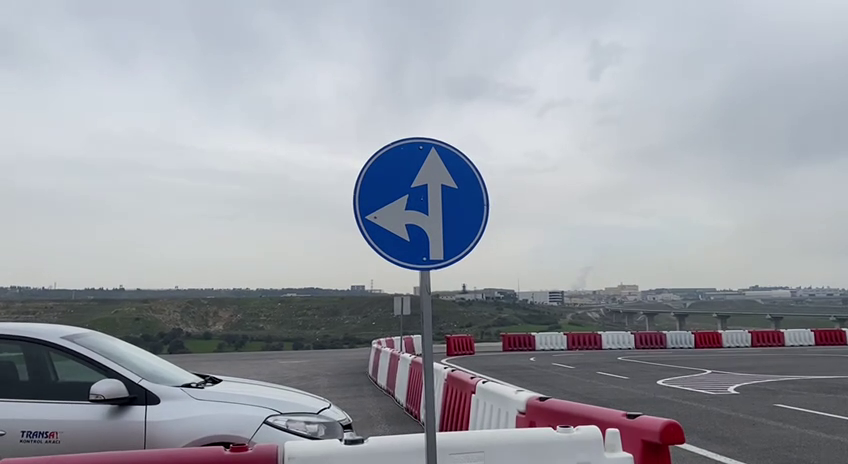forwardAndLeft: (348, 131, 495, 274)
